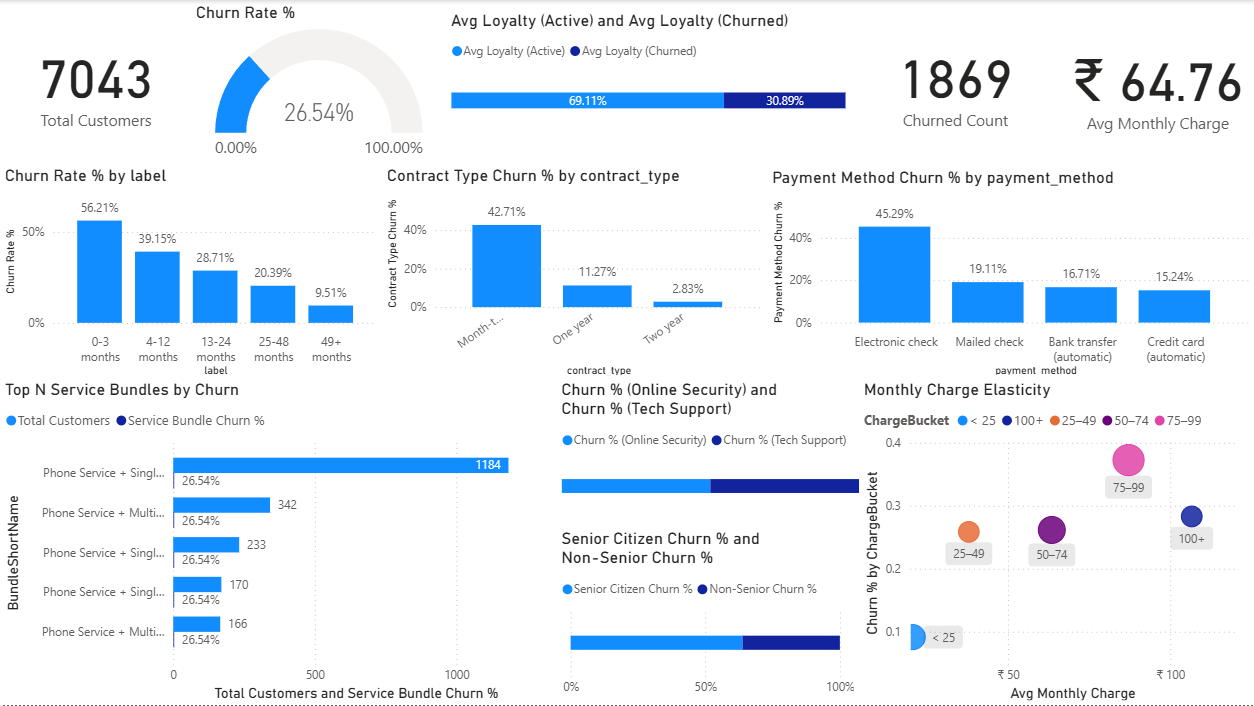

This screenshot's page, from the dashboard's own definition file:
{"tool":"powerbi","page":{"name":"Page 1","canvas":[1280,720],"ordinal":0},"visuals":[{"type":"gauge","fields":{"Y":["Measures Table.Churn Rate %"]},"box":[195,3.8,260,167.5],"z":0},{"type":"card","fields":{"Values":["Measures Table.Total Customers"]},"box":[0,0,195,167.5],"z":1000},{"type":"card","fields":{"Values":["Measures Table.Avg Monthly Charge"]},"box":[1081.2,3.8,198.8,167.5],"z":2000},{"type":"clusteredColumnChart","fields":{"Category":["dim_tenure.label"],"Y":["Measures Table.Churn Rate %"]},"box":[0,168.8,390,218.8],"z":3000},{"type":"clusteredColumnChart","fields":{"Category":["dim_contract.contract_type"],"Y":["Measures Table.Contract Type Churn %"]},"box":[390,168.8,392.5,218.8],"z":4000},{"type":"clusteredBarChart","title":"Top N Service Bundles by Churn","fields":{"Category":["dim_service.BundleShortName"],"Y":["Measures Table.Total Customers","Measures Table.Service Bundle Churn %"]},"box":[0,387.6,567.8,332.3],"z":5000},{"type":"clusteredColumnChart","fields":{"Category":["dim_contract.payment_method"],"Y":["Measures Table.Payment Method Churn %"]},"box":[782.5,171.2,497.5,216.2],"z":6000},{"type":"hundredPercentStackedBarChart","fields":{"Y":["Measures Table.Churn % (Online Security)","Measures Table.Churn % (Tech Support)"]},"box":[567.8,387.6,318.8,140.8],"z":7000},{"type":"scatterChart","title":"Monthly Charge Elasticity","fields":{"X":["Measures Table.Avg Monthly Charge"],"Y":["Measures Table.Churn % by ChargeBucket"],"Size":["Measures Table.Total Customers"],"Series":["fact_customer_subscription.ChargeBucket"]},"box":[876.5,387.6,403.3,332.3],"z":8000},{"type":"card","fields":{"Values":["Measures Table.Churned Count"]},"box":[867.5,0,213.8,167.5],"z":9000},{"type":"hundredPercentStackedBarChart","fields":{"Y":["Measures Table.Senior Citizen Churn %","Measures Table.Non-Senior Churn %"]},"box":[567.8,539.6,308.7,180.3],"z":10000},{"type":"hundredPercentStackedBarChart","fields":{"Y":["Measures Table.Avg Loyalty (Active)","Measures Table.Avg Loyalty (Churned)"]},"box":[455,11.2,412.5,127.5],"z":11000}]}

Visuals, with their boxes in screenshot pixels (x1, y1, x2, y2), scaled from the page's 1280x720 canvas onto the 1254x706 screenshot:
gauge - Measures Table.Churn Rate %: pyautogui.locateOnScreen(191, 4, 446, 168)
card - Measures Table.Total Customers: pyautogui.locateOnScreen(0, 0, 191, 164)
card - Measures Table.Avg Monthly Charge: pyautogui.locateOnScreen(1059, 4, 1253, 168)
clusteredColumnChart - dim_tenure.label x Measures Table.Churn Rate %: pyautogui.locateOnScreen(0, 166, 382, 380)
clusteredColumnChart - dim_contract.contract_type x Measures Table.Contract Type Churn %: pyautogui.locateOnScreen(382, 166, 767, 380)
"Top N Service Bundles by Churn" clusteredBarChart: pyautogui.locateOnScreen(0, 380, 556, 705)
clusteredColumnChart - dim_contract.payment_method x Measures Table.Payment Method Churn %: pyautogui.locateOnScreen(767, 168, 1253, 380)
hundredPercentStackedBarChart - Measures Table.Churn % (Online Security) x Measures Table.Churn % (Tech Support): pyautogui.locateOnScreen(556, 380, 869, 518)
"Monthly Charge Elasticity" scatterChart: pyautogui.locateOnScreen(859, 380, 1253, 705)
card - Measures Table.Churned Count: pyautogui.locateOnScreen(850, 0, 1059, 164)
hundredPercentStackedBarChart - Measures Table.Senior Citizen Churn % x Measures Table.Non-Senior Churn %: pyautogui.locateOnScreen(556, 529, 859, 705)
hundredPercentStackedBarChart - Measures Table.Avg Loyalty (Active) x Measures Table.Avg Loyalty (Churned): pyautogui.locateOnScreen(446, 11, 850, 136)
